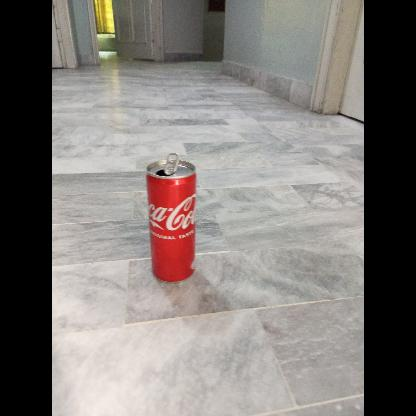Lid_Open: (150, 152, 180, 180)
Tin_Can: (146, 150, 198, 286)
